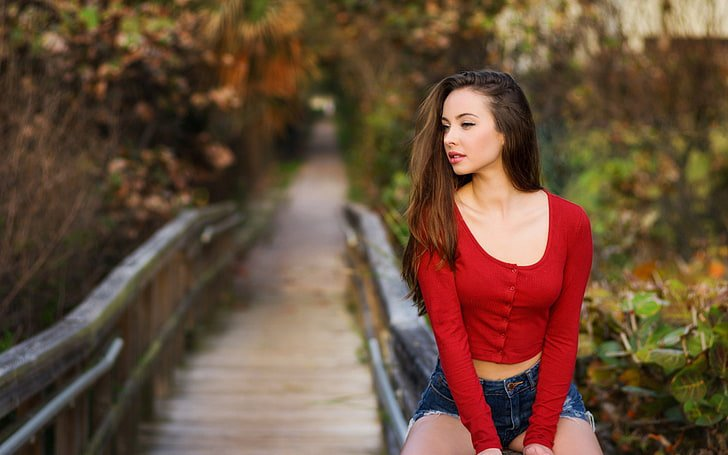noMask: (422, 70, 560, 200)
